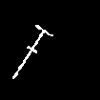double_crochet: (13, 25, 52, 78)
